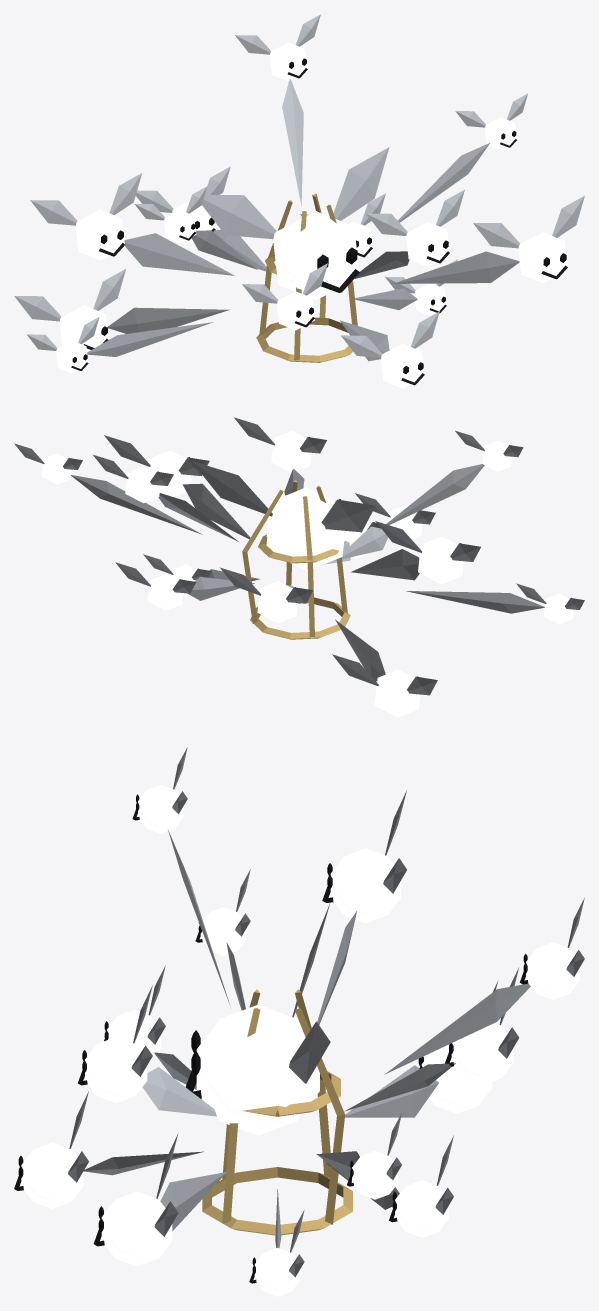
The model's file is sprite-star-burst.glb.
3 renders of one model, top to bottom at view 1: azimuth 30°, elevation 25°; view 2: azimuth 150°, elevation 25°; view 3: azimuth 270°, elevation 25°, orthographic. The views are drawn at different scales.
Visible parts, largest first — view 1: sprite-star-burst; view 2: sprite-star-burst; view 3: sprite-star-burst.
Part boxes in pixels (bbox=[...]): sprite-star-burst: bbox=[14, 14, 584, 388]; sprite-star-burst: bbox=[14, 417, 584, 717]; sprite-star-burst: bbox=[14, 747, 584, 1296].
Bounding box in the file's own units: 0.9743 × 0.4075 × 0.5914.
